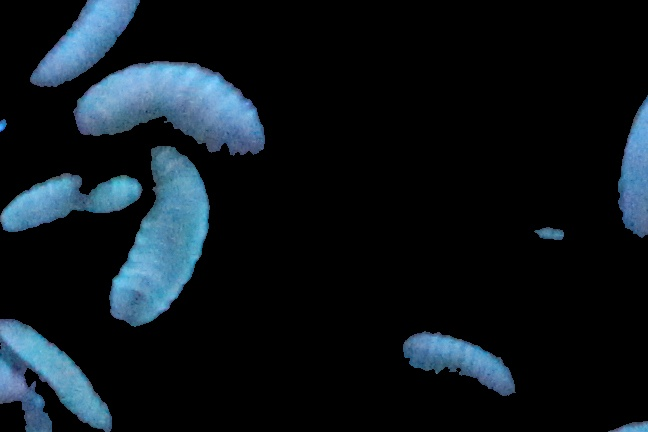larvae: (110, 144, 210, 333), (76, 62, 267, 157), (1, 318, 112, 432), (28, 1, 146, 90), (1, 168, 136, 235), (401, 333, 516, 398)
